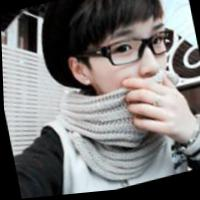WRONG: (80, 20, 185, 130)
